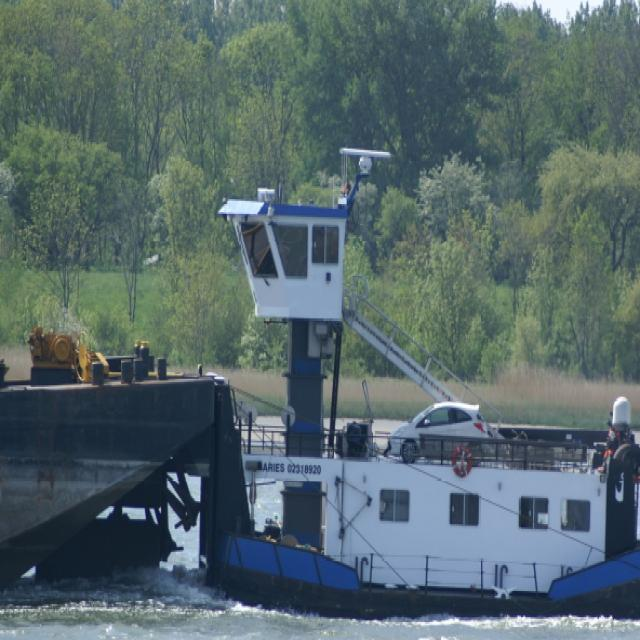tugboat: (88, 143, 640, 636)
